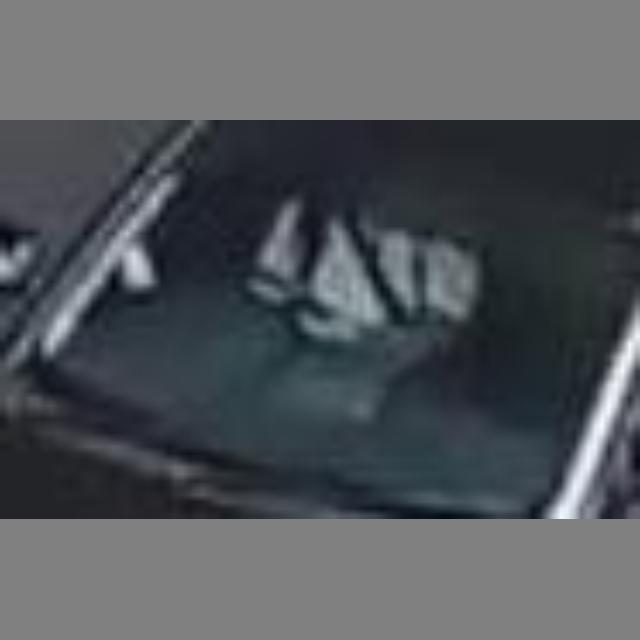pakai: (248, 189, 495, 388)
